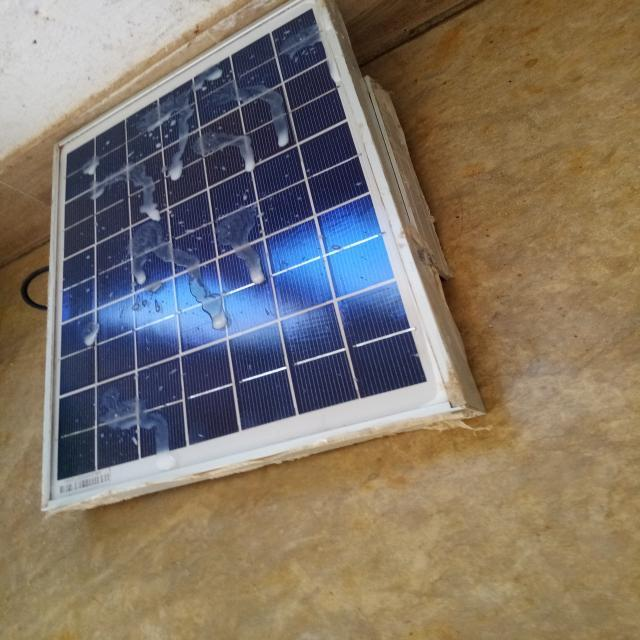faulty: (46, 0, 457, 505)
